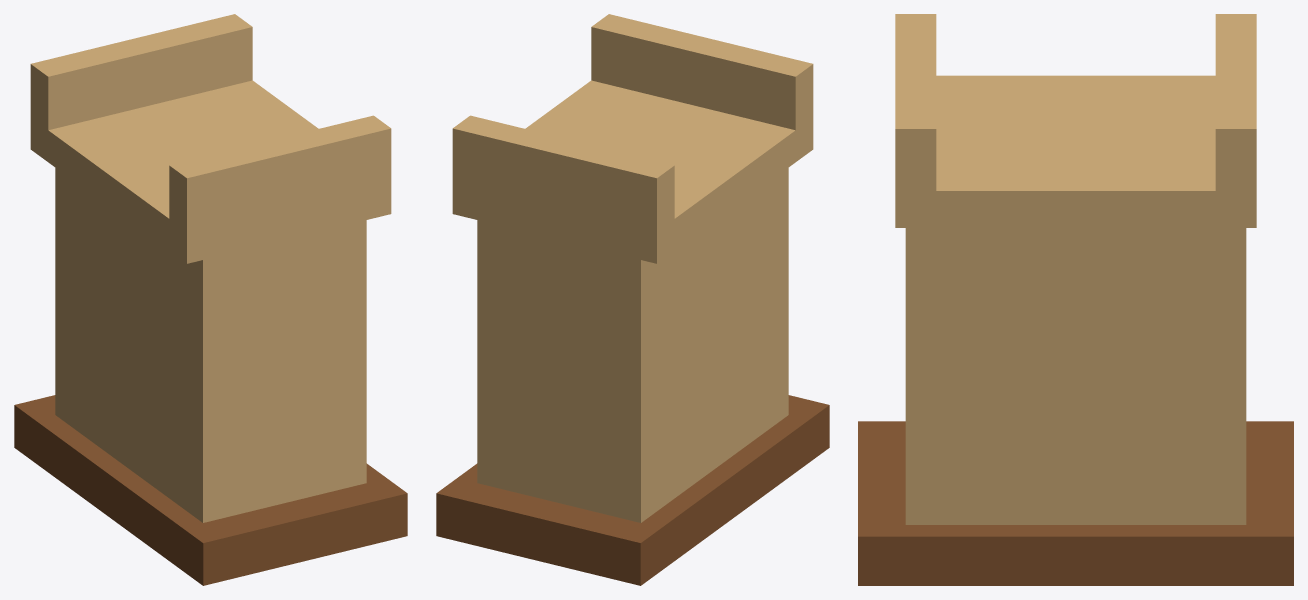
The model's file is bridge-pier.glb.
3 views of the same model, side by side, from view 1: azimuth 30°, elevation 25°; view 2: azimuth 150°, elevation 25°; view 3: azimuth 270°, elevation 25° (orthographic). The views are drawn at different scales.
Parts seen in each view (by area): view 1: wood, darkWood; view 2: wood, darkWood; view 3: wood, darkWood.
Boxes of the visible parts, left/top/right/bottom form: wood: left=30, top=14, right=391, bottom=522; darkWood: left=14, top=395, right=407, bottom=585; wood: left=452, top=14, right=813, bottom=522; darkWood: left=436, top=395, right=829, bottom=585; wood: left=895, top=14, right=1256, bottom=524; darkWood: left=858, top=421, right=1293, bottom=585.
Bounding box in the file's own units: 40 × 74 × 64.
